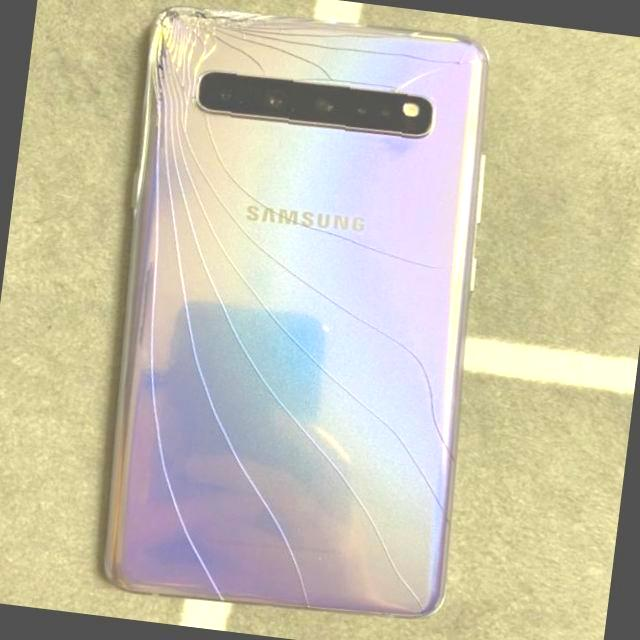phone: (74, 0, 510, 632)
